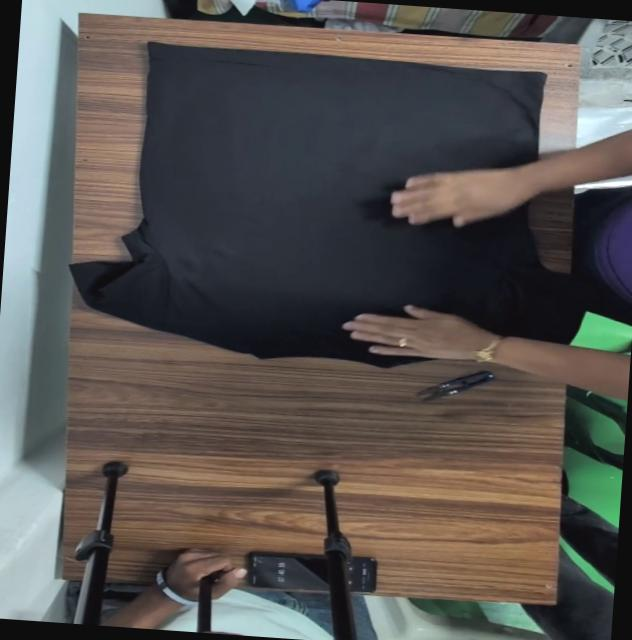new-garment: (71, 43, 578, 366)
